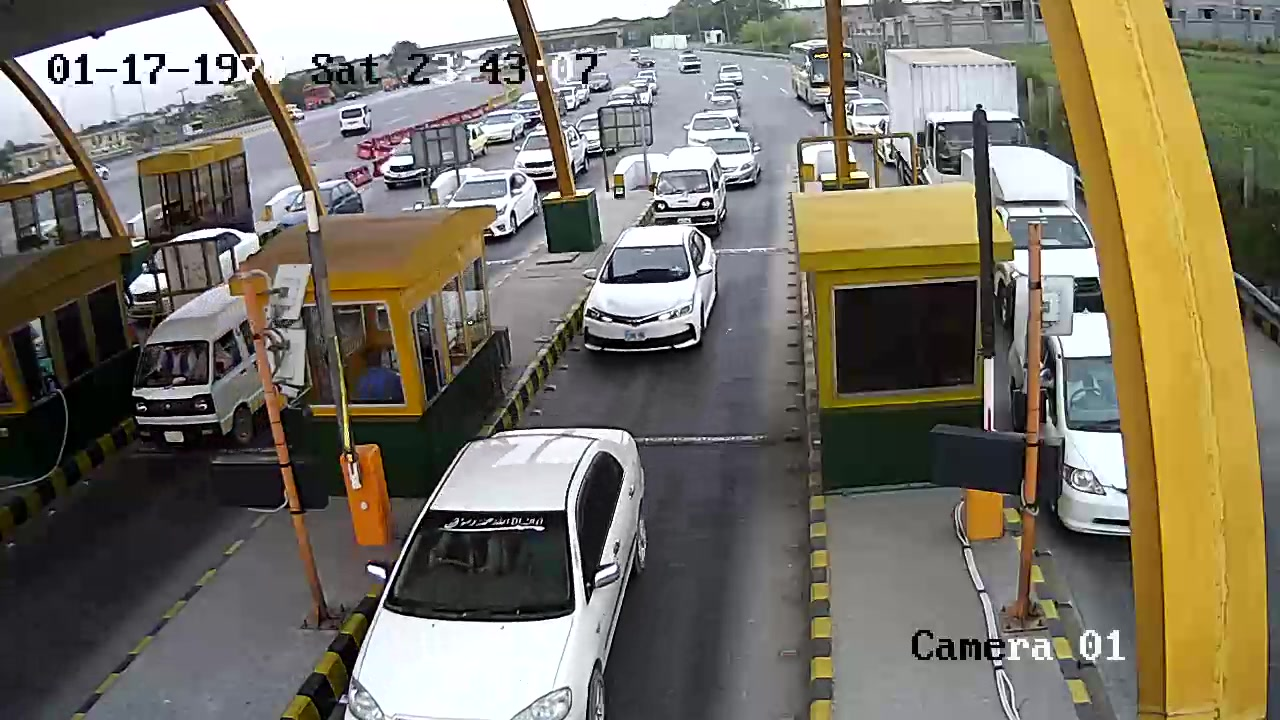F1: (575, 218, 727, 374)
